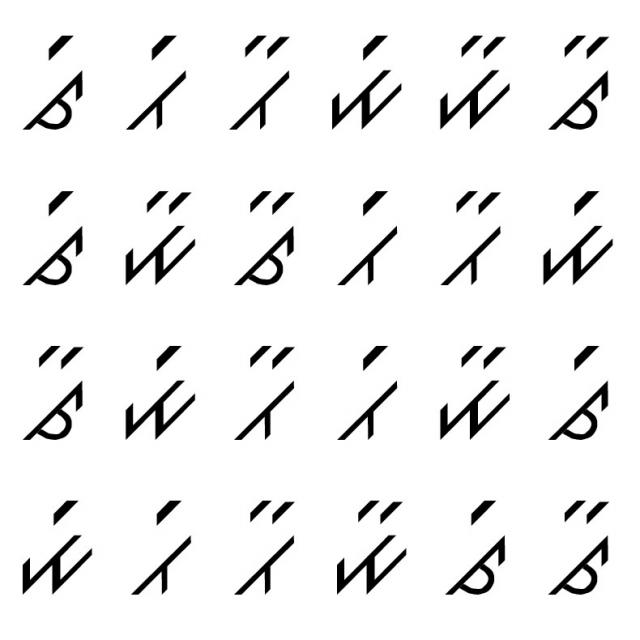ban: (436, 186, 508, 292), (226, 33, 296, 139), (232, 341, 304, 442), (231, 496, 302, 598)
bang: (120, 488, 198, 600), (332, 337, 404, 451), (120, 31, 190, 139), (336, 186, 404, 293)
can: (221, 187, 306, 289), (20, 333, 95, 441), (547, 495, 616, 597), (550, 33, 614, 133)
cang: (14, 186, 94, 292), (544, 335, 612, 449), (23, 32, 92, 136), (442, 491, 508, 598)
man: (323, 488, 415, 596), (428, 337, 514, 445), (120, 184, 200, 287), (432, 32, 511, 132)
mang: (15, 494, 104, 602), (118, 342, 200, 452), (536, 184, 620, 287), (322, 34, 405, 135)
